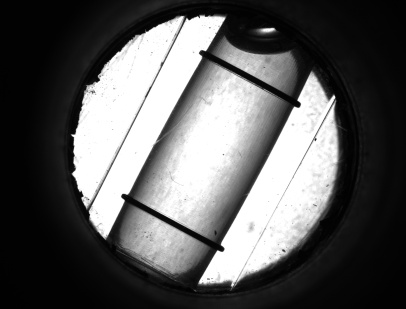line: (136, 199, 202, 244), (217, 57, 283, 102)
